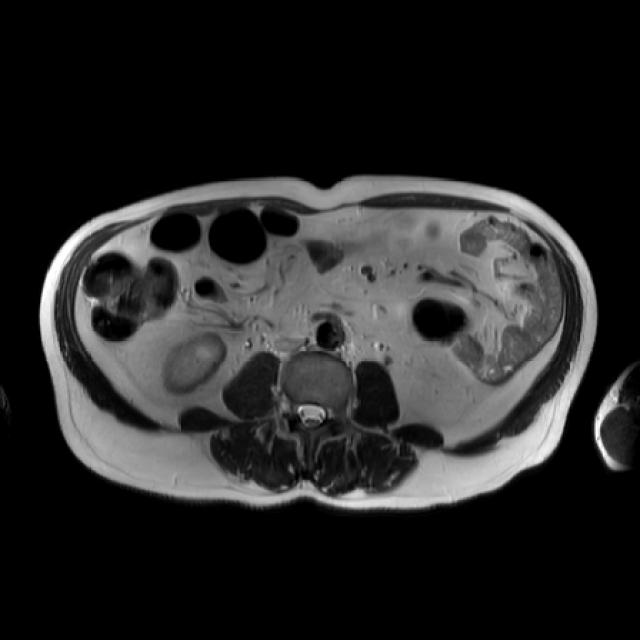sag: (161, 329, 229, 396)
